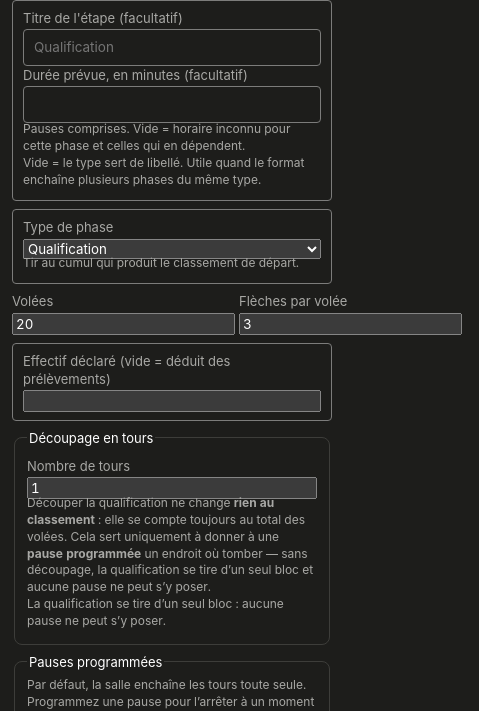
Scenario: le découpage en tours dans l’atelier de composition › ouvre la fiche de pauses dès qu’on saisit 2 tours, sans enregistrement
The image size is (479, 711).
Type "2" into the field labelled "Nombre de tours" at (172, 488), box [27,477,317,499]
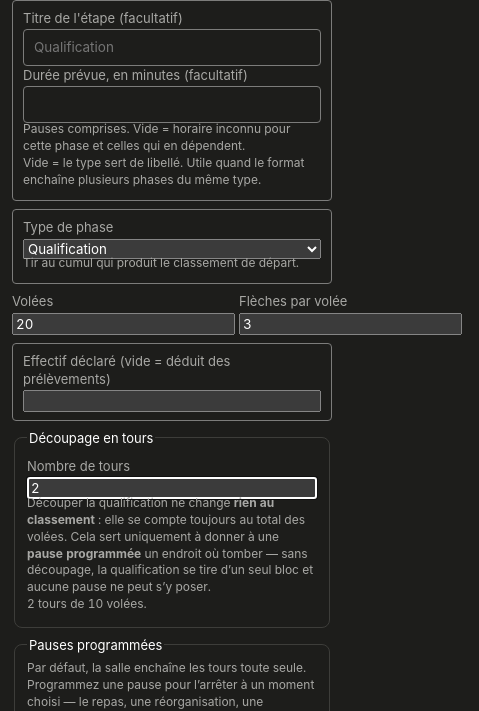
Expected: the text "2 tours de 10 volées." is shown, [27,596,147,611]
